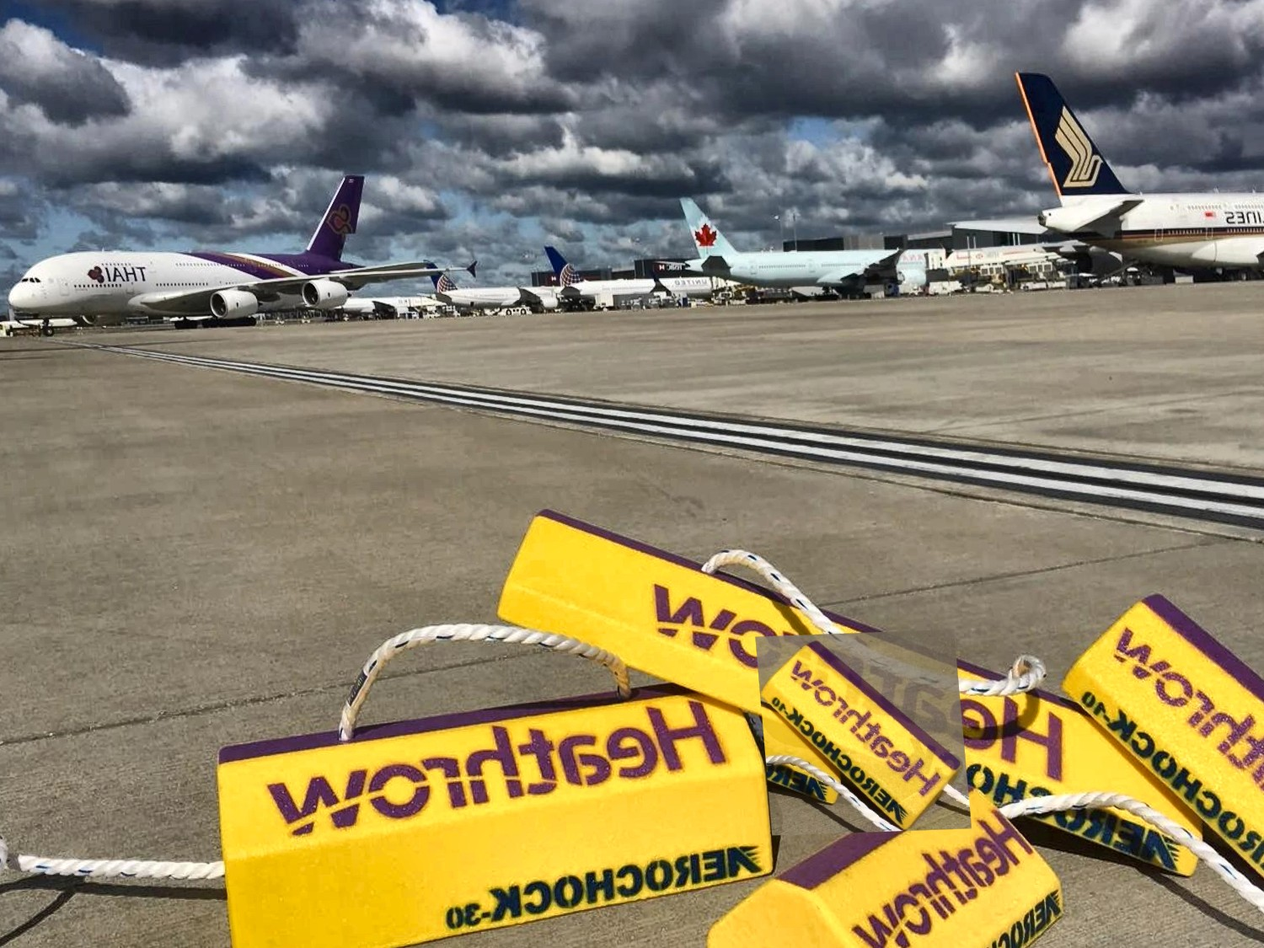chock: (488, 478, 1222, 900), (207, 663, 787, 948), (1052, 575, 1264, 932), (692, 774, 1080, 948), (755, 629, 972, 836)
